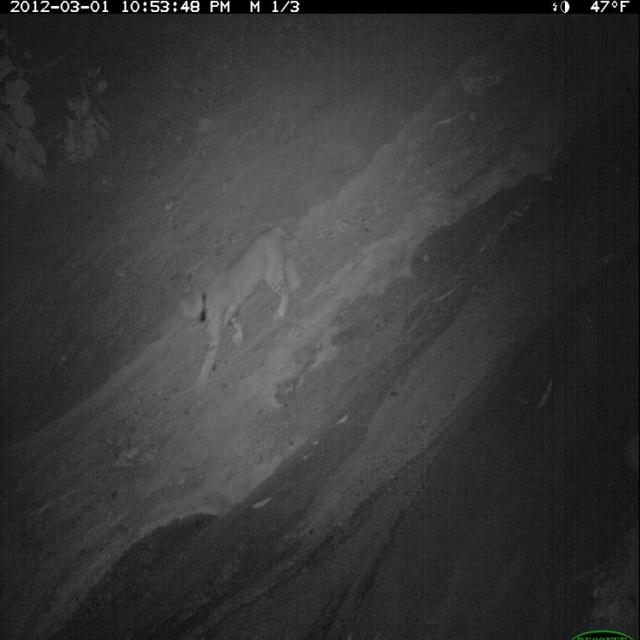bobcat: (173, 219, 304, 399)
